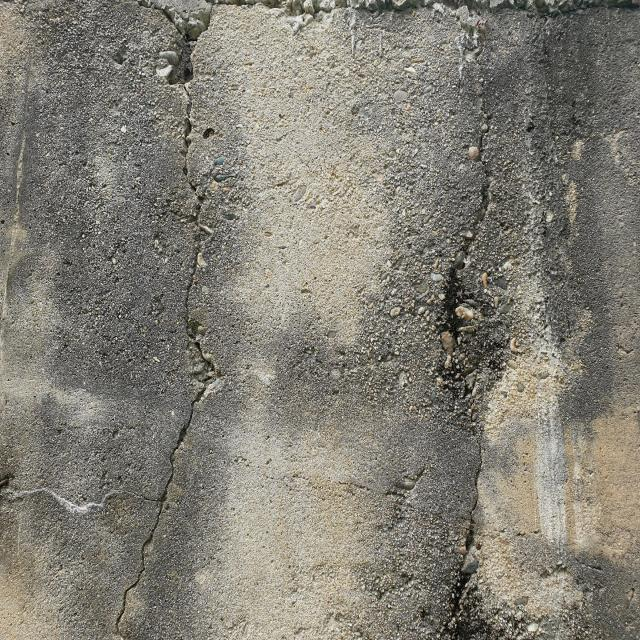SurfaceCrack: (95, 1, 256, 640)
